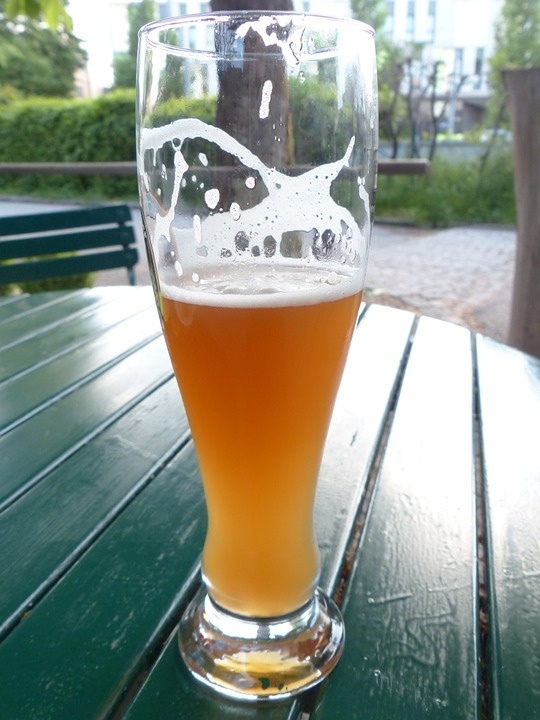glassBeer: (132, 16, 385, 685)
